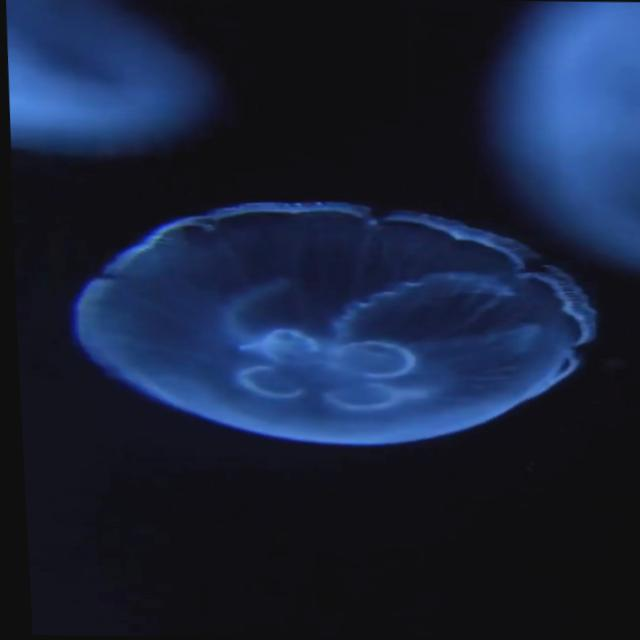Moon-jellyfish: (69, 196, 600, 447)
